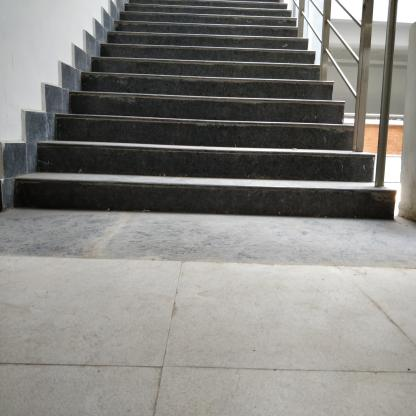stairs: (124, 3, 292, 232)
